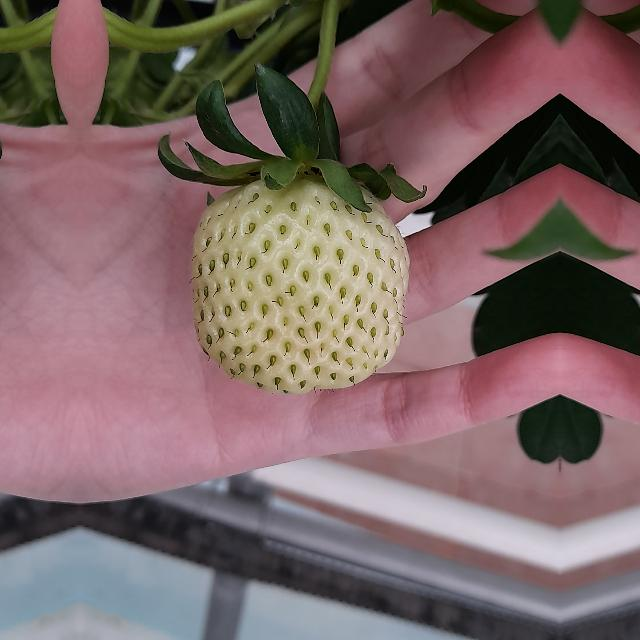Health_25: (190, 179, 410, 395)
